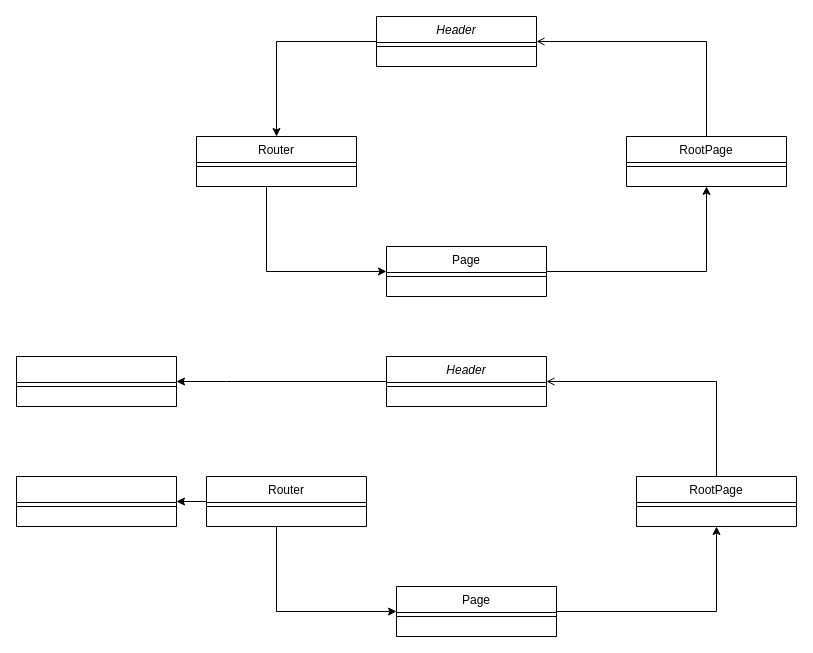
This 813x653 diagram has some shape labels left out. Each missing label, with the centre of its shape:
"HeaderTypes" belongs at (96,381).
"RouterTypes" belongs at (96,501).
